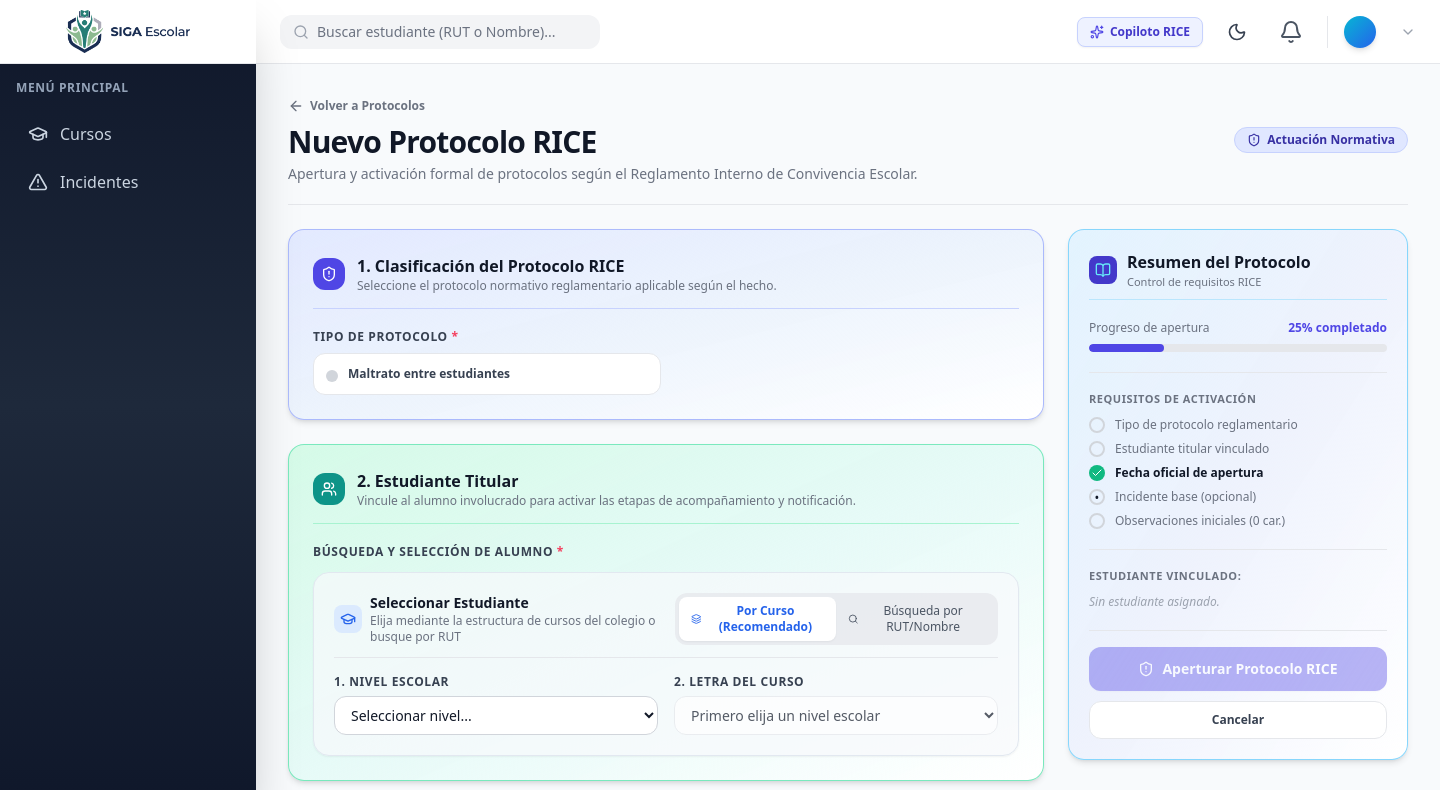
Test: NuevoProtocoloPage con SelectorEstudianteCascada (HU 5.5) › permite vincular al estudiante del protocolo mediante flujo en cascada y cambiarlo si se requiere
The width and height of the screenshot is (1440, 790).
Expected: the heading "Nuevo Protocolo RICE" is shown, [288,121,597,162]
Select "2° Básico" in the dropdown named "Seleccionar Nivel Escolar" at (496, 716), box [334,696,658,735]
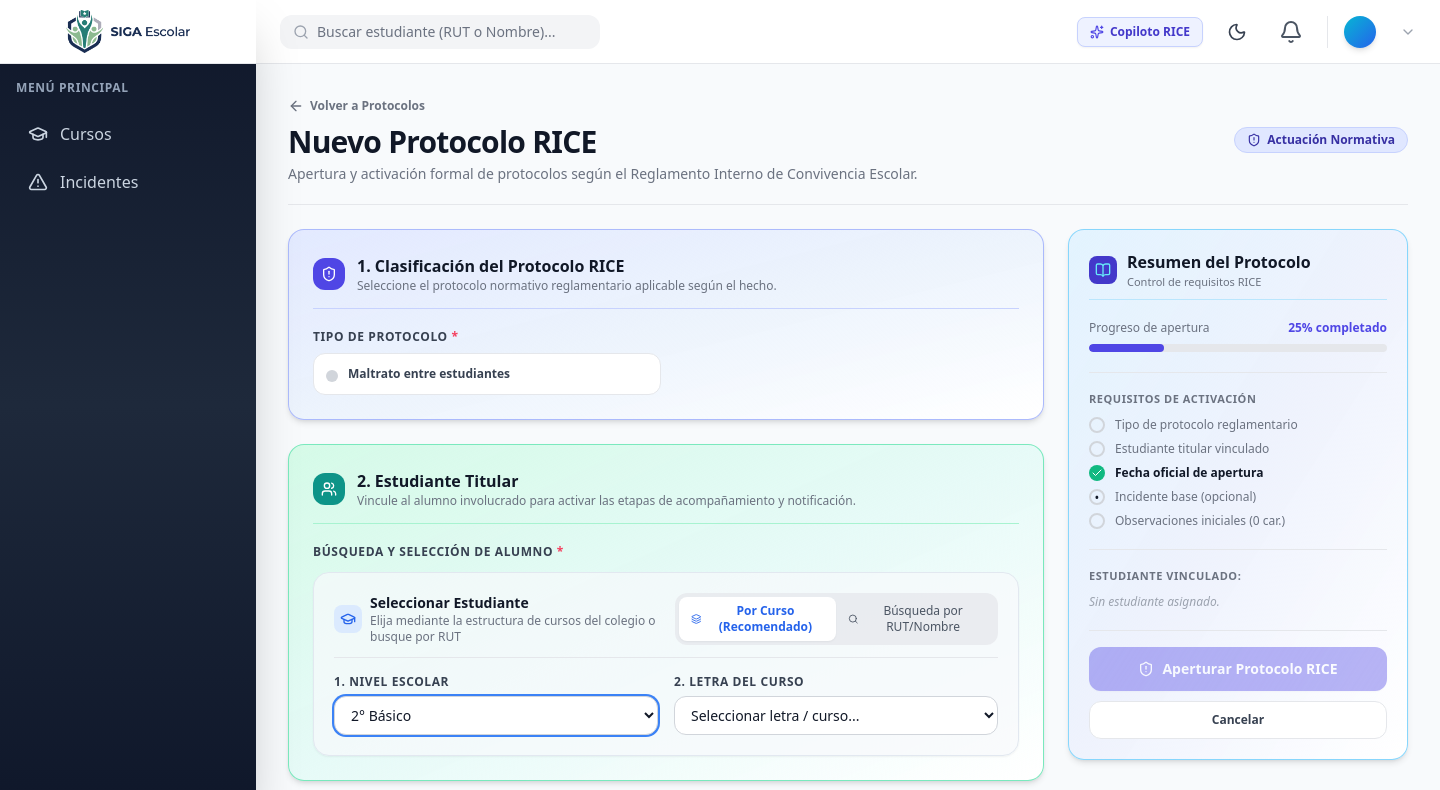
Select "2° Básico B" in the dropdown named "Seleccionar Letra del Curso" at (836, 716), box [674,696,998,735]
(page scrolled)
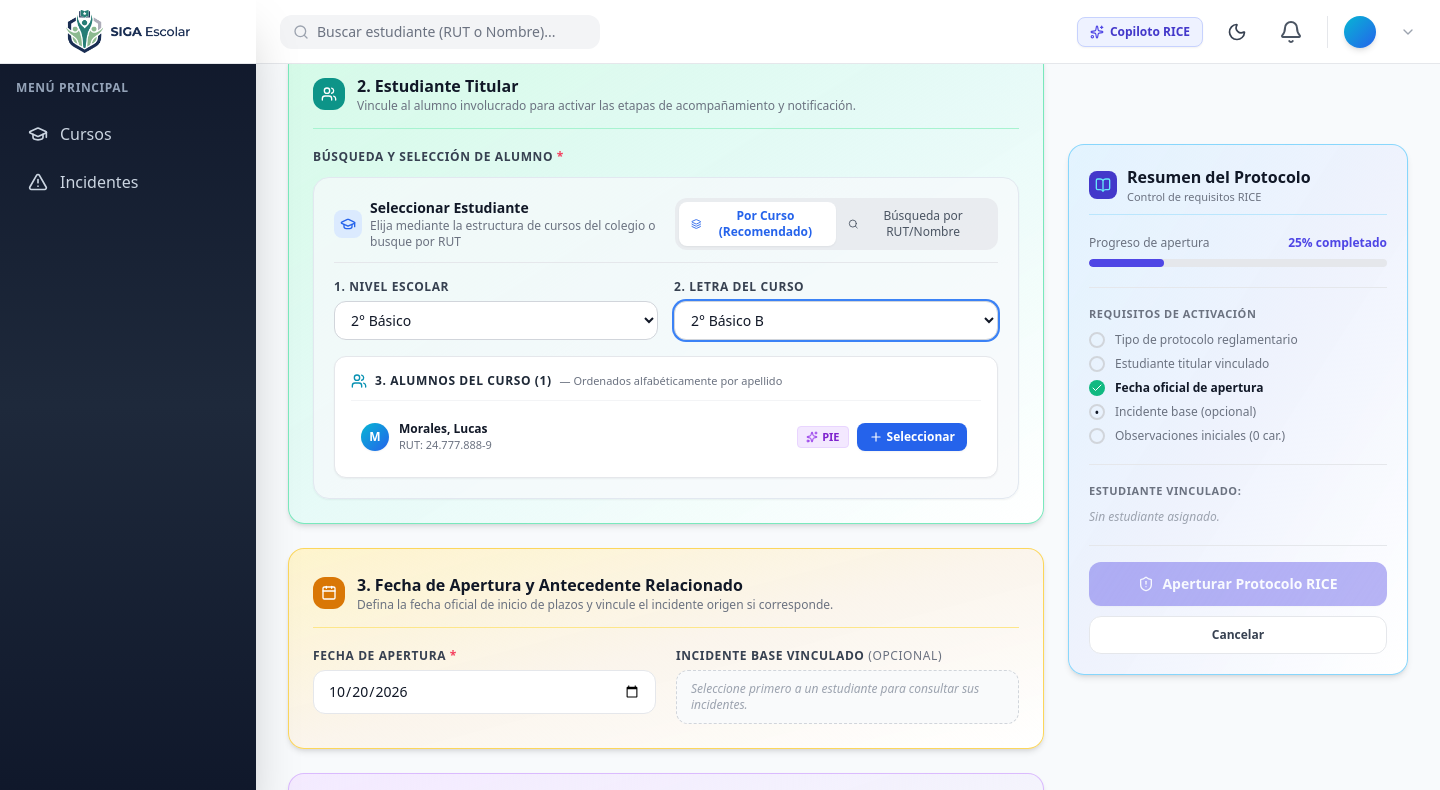
Now the text "Morales" is shown, box [399,420,447,436]
Click the button "Seleccionar".
click(912, 437)  # box [856,423,967,451]
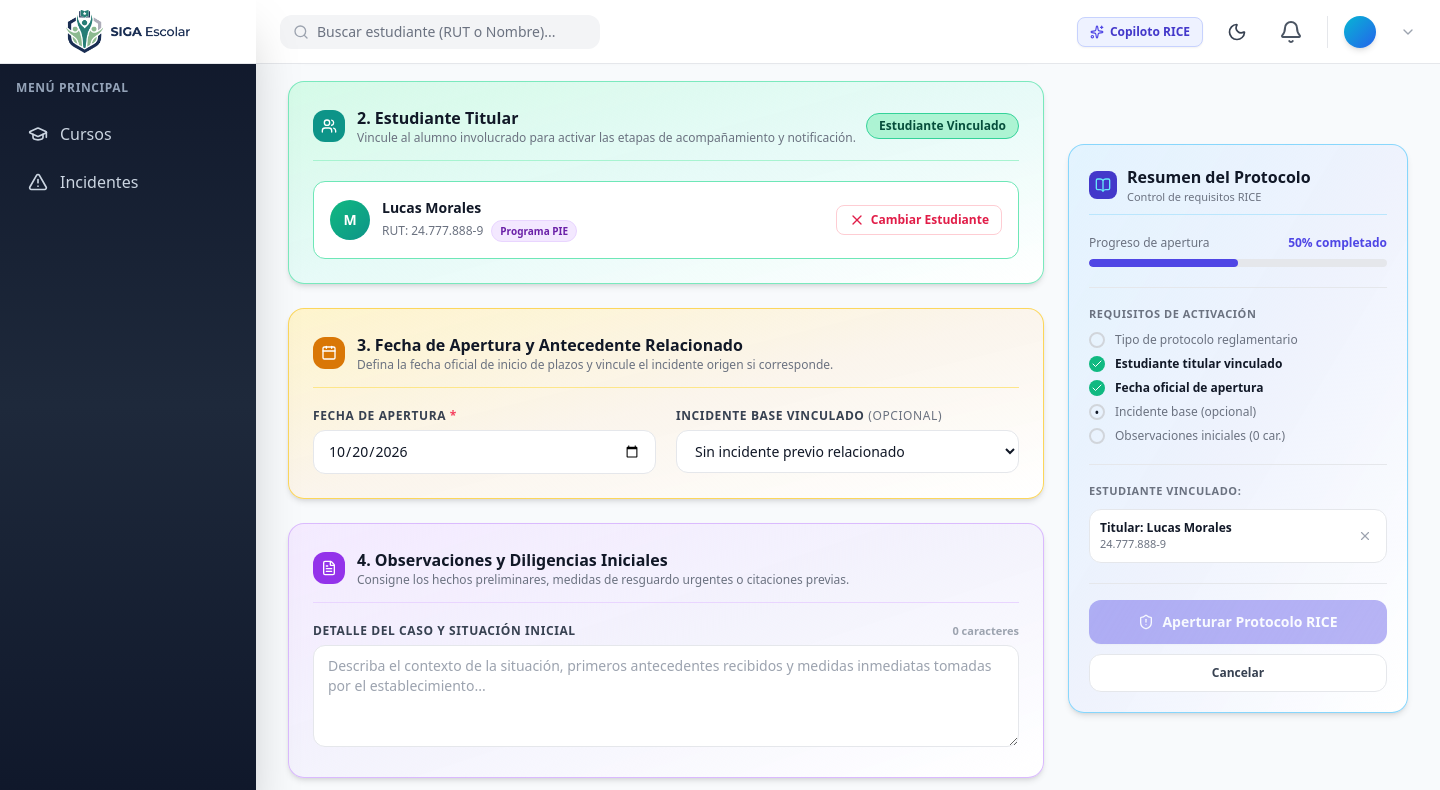
Now the text "Lucas Morales" is shown, box [382,198,481,217]
Now the text "Programa PIE" is shown, box [491,220,577,242]
Now the button "Cambiar Estudiante" is shown
Note: Al pulsar Cambiar Estudiante, vuelve a desplegarse el selector
Click the button "Cambiar Estudiante".
click(919, 220)  # box [836,205,1002,235]
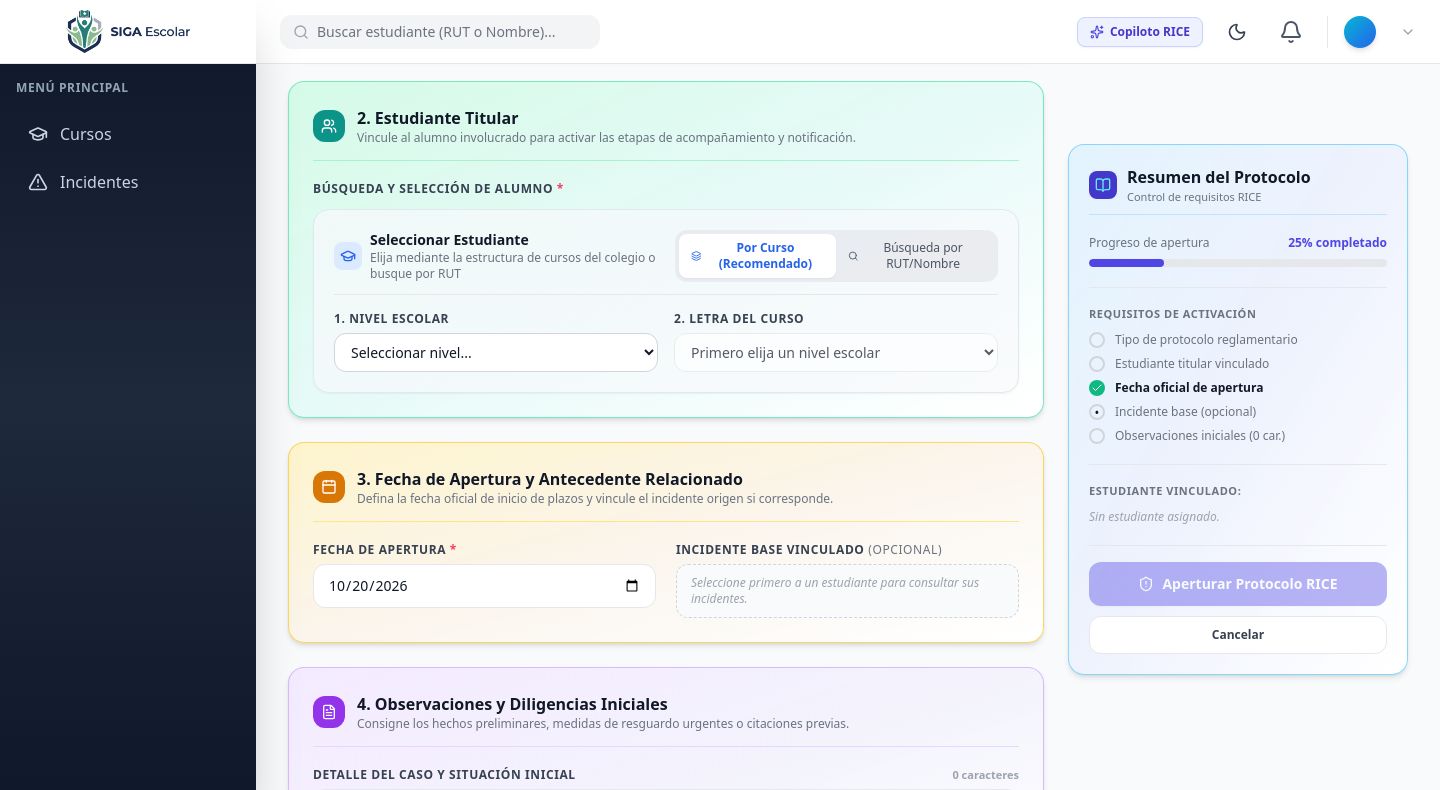
Now the dropdown named "Seleccionar Nivel Escolar" is shown, box [334,333,658,372]
